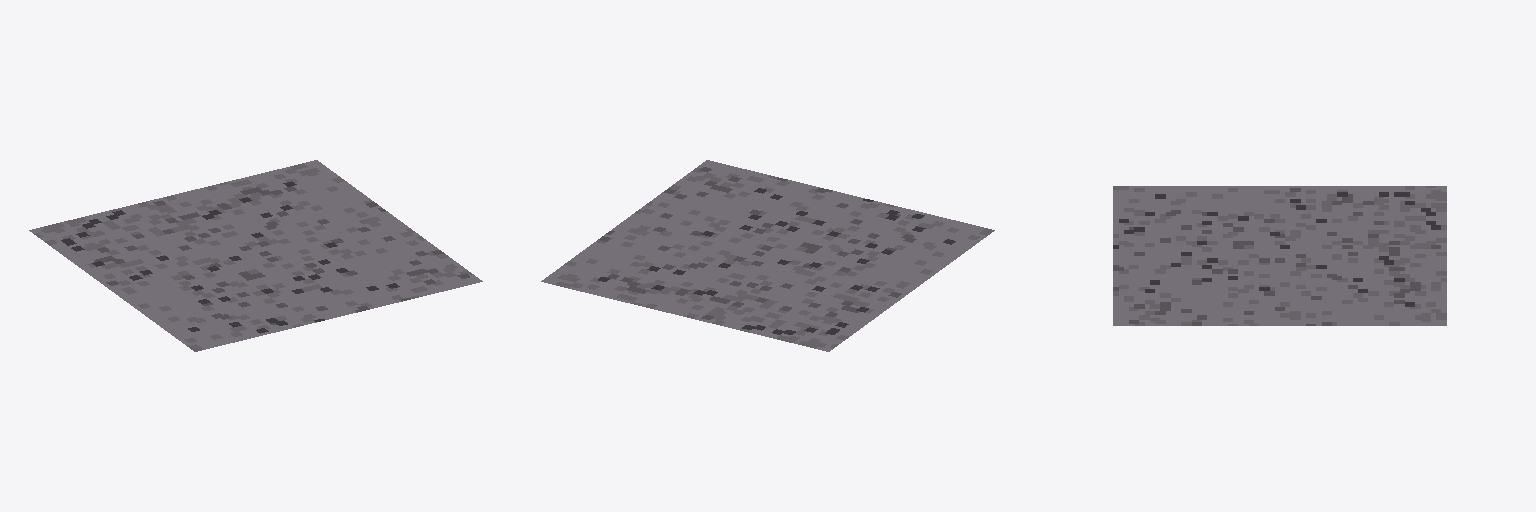
The picture shows the model from 3 angles: view 1: azimuth 30°, elevation 25°; view 2: azimuth 150°, elevation 25°; view 3: azimuth 270°, elevation 25°; orthographic projection.
Parts seen in each view (by area): view 1: 平面; view 2: 平面; view 3: 平面.
Part boxes in pixels (bbox=[...]): 平面: bbox=[29, 160, 482, 351]; 平面: bbox=[541, 160, 994, 351]; 平面: bbox=[1113, 186, 1446, 325].
Bounding box in the file's own units: 71.16 × 0 × 71.16.
1 materials, 1 textured.